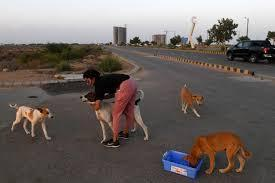dog_aggressive: (78, 90, 157, 145)
normal_dogs: (182, 122, 248, 183), (6, 97, 58, 143), (176, 81, 208, 120)
